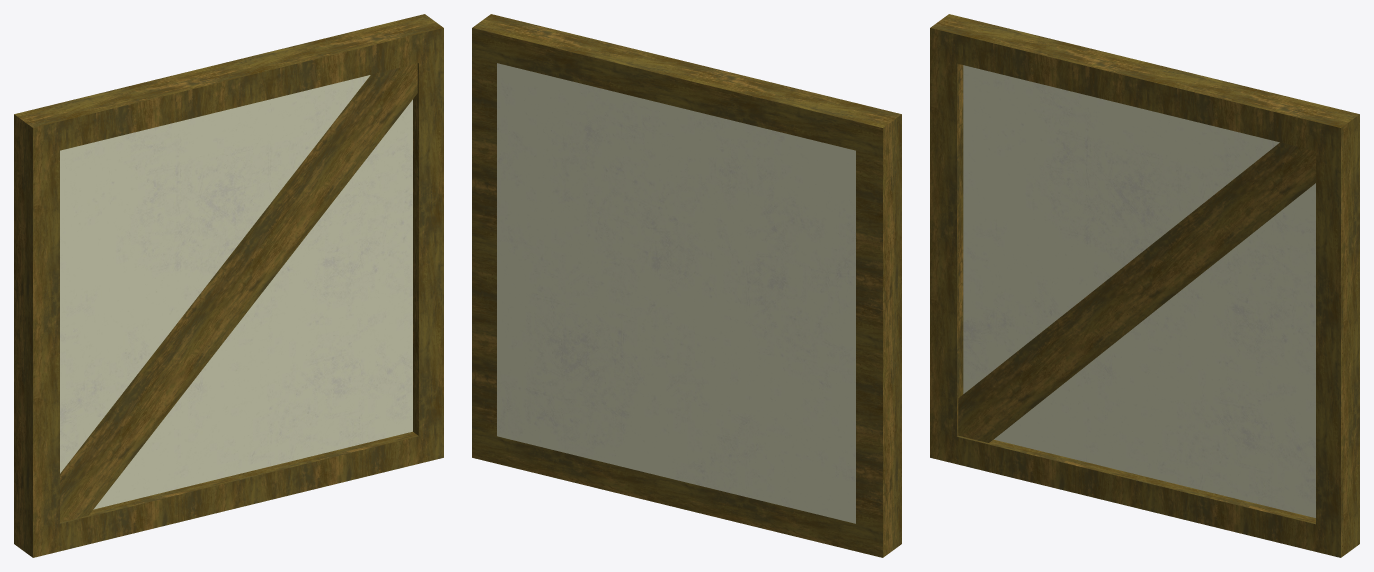
The model's file is Wall cross Right.fbx.
3 views of the same model, side by side, from view 1: azimuth 30°, elevation 25°; view 2: azimuth 150°, elevation 25°; view 3: azimuth 330°, elevation 25° (orthographic).
Visible parts, largest first — view 1: Wall_Cross_Right; view 2: Wall_Cross_Right; view 3: Wall_Cross_Right.
Part boxes in pixels (x1,y1,x2,y2): Wall_Cross_Right: (14,14,443,557); Wall_Cross_Right: (472,14,901,557); Wall_Cross_Right: (930,14,1359,557).
Bounding box in the file's own units: 312 × 312 × 25.
